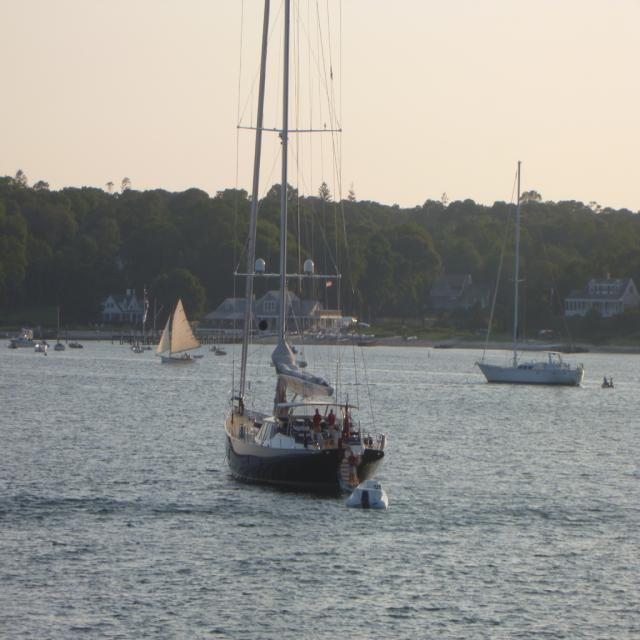Boat: (215, 28, 405, 523), (476, 161, 588, 384), (158, 299, 203, 366), (55, 308, 70, 352), (9, 325, 36, 348), (37, 339, 49, 354)
